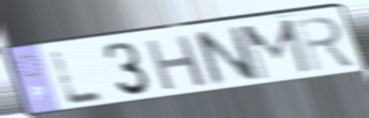3: (102, 40, 154, 98)
H: (143, 32, 210, 94)
L: (48, 49, 108, 107)
M: (238, 17, 314, 83)
N: (189, 23, 262, 90)
R: (291, 14, 359, 74)
